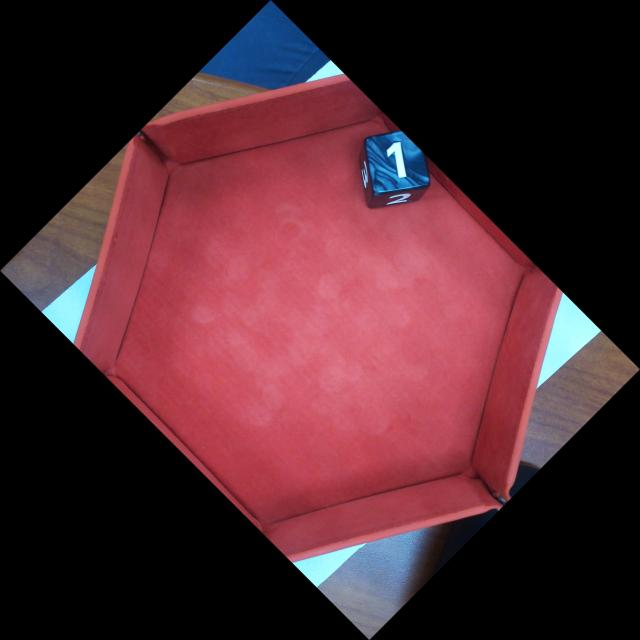dice: (365, 128, 430, 194)
